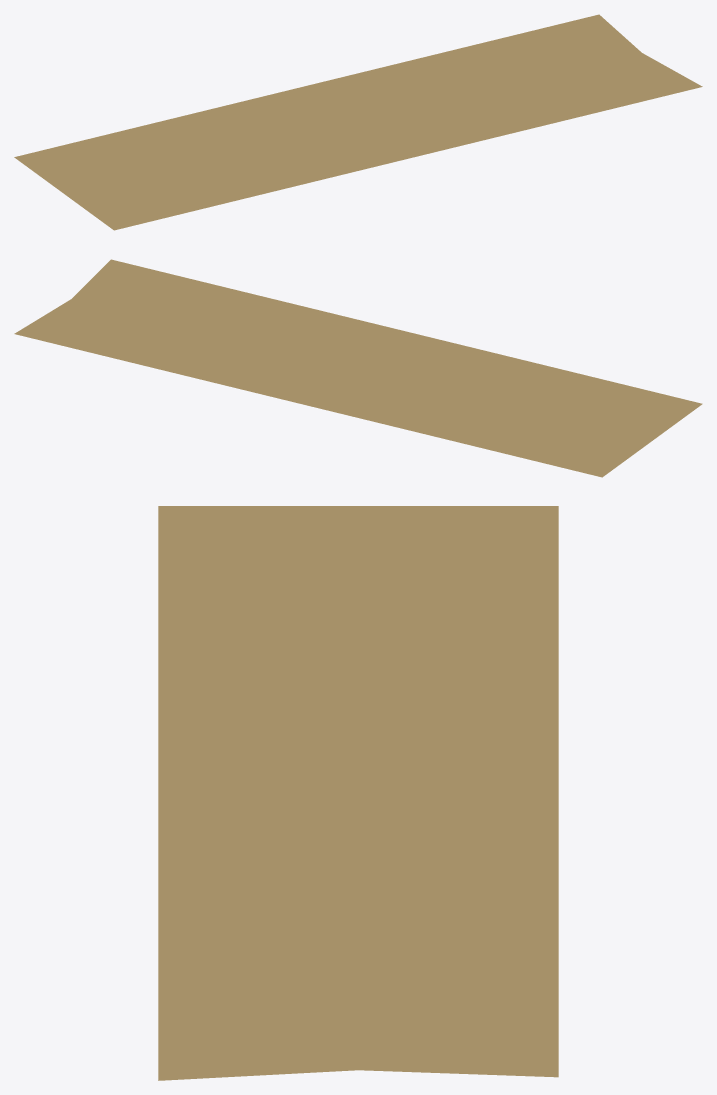
File: bridgeroad.glb
The picture shows the model from 3 angles, top to bottom: view 1: azimuth 30°, elevation 25°; view 2: azimuth 150°, elevation 25°; view 3: azimuth 270°, elevation 25°; orthographic projection. The views are drawn at different scales.
Parts seen in each view (by area): view 1: bridgeroad; view 2: bridgeroad; view 3: bridgeroad.
Boxes of the visible parts, x1,y1,x2,y2 form: bridgeroad: [14, 14, 702, 230]; bridgeroad: [14, 259, 702, 477]; bridgeroad: [158, 506, 558, 1080].
Bounding box in the file's own units: 20.38 × 0 × 6.
